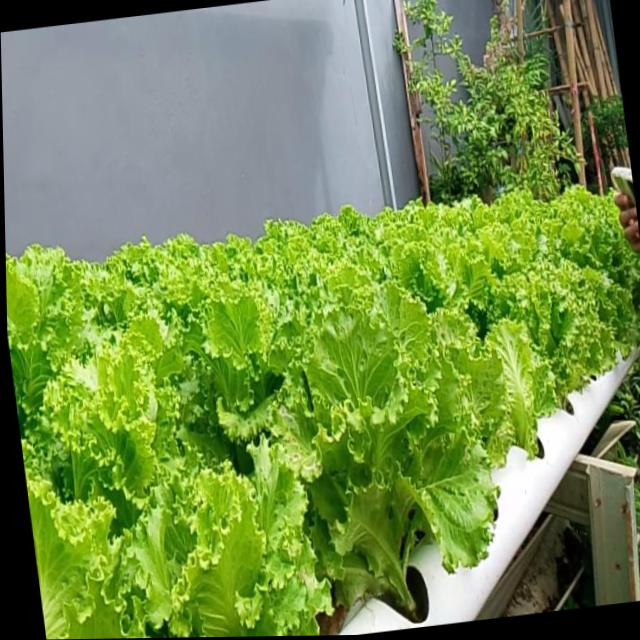Mature: (6, 177, 640, 640), (280, 292, 498, 623), (500, 257, 613, 422)
